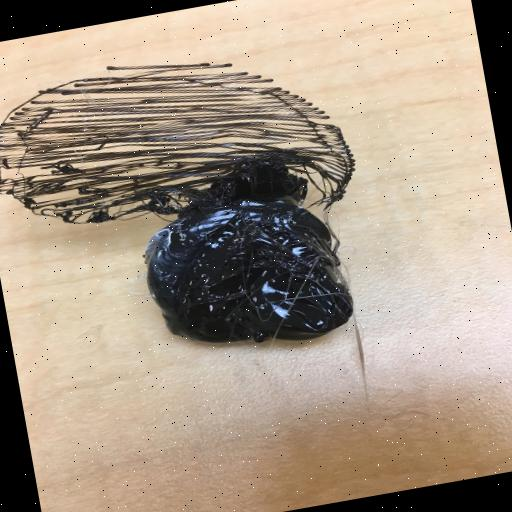stringing: (0, 18, 381, 266)
